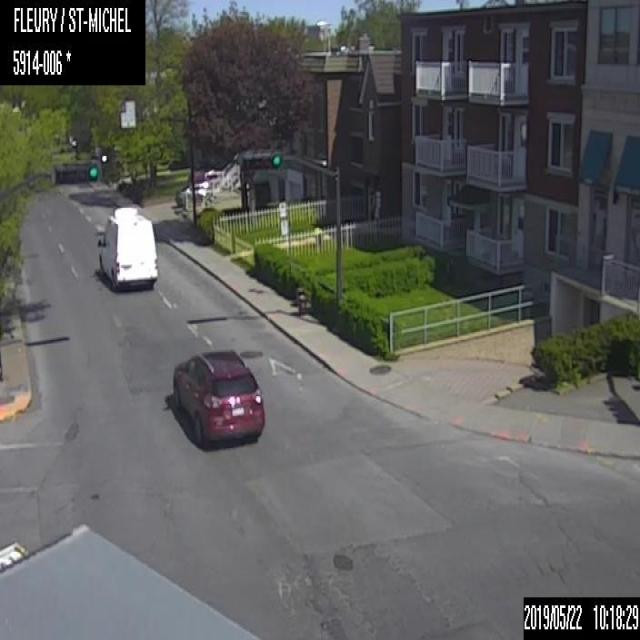vehicle: (0, 520, 260, 639), (169, 347, 266, 445), (95, 204, 158, 291)
